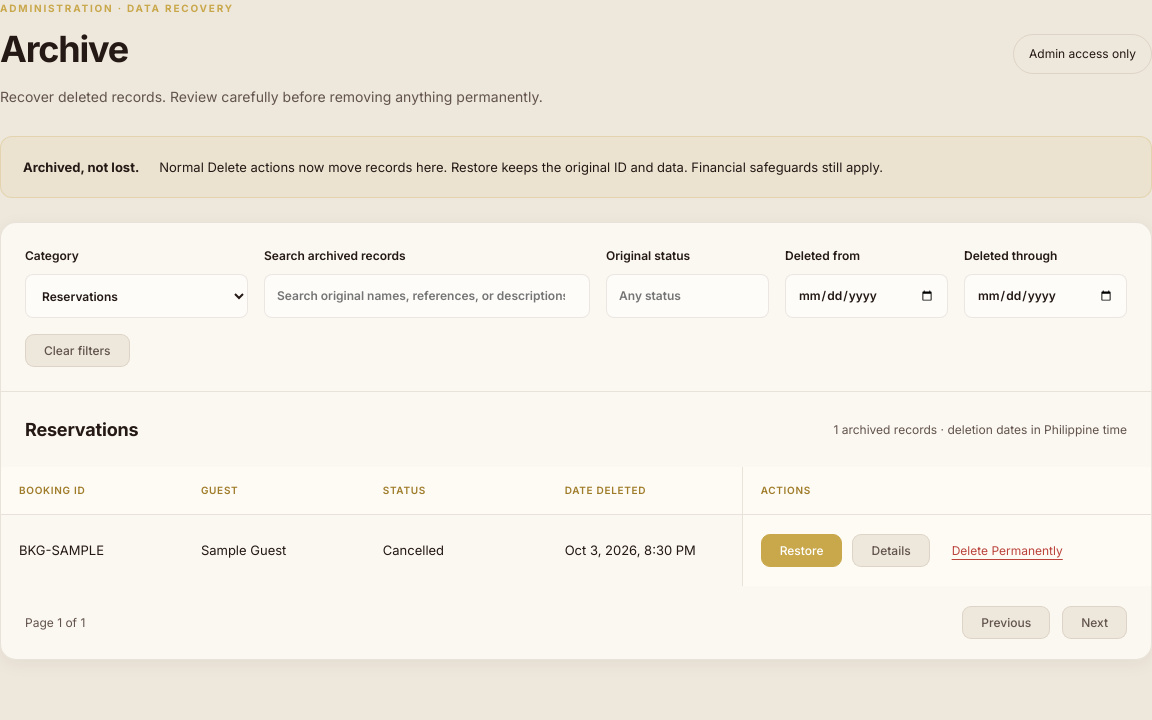
Test case: search/status/date filters are server-side and invalid ranges do not fetch
Type "Sample" into the search field labelled "Search archived records". click: {"x": 427, "y": 296}
box: [264,274,590,318]
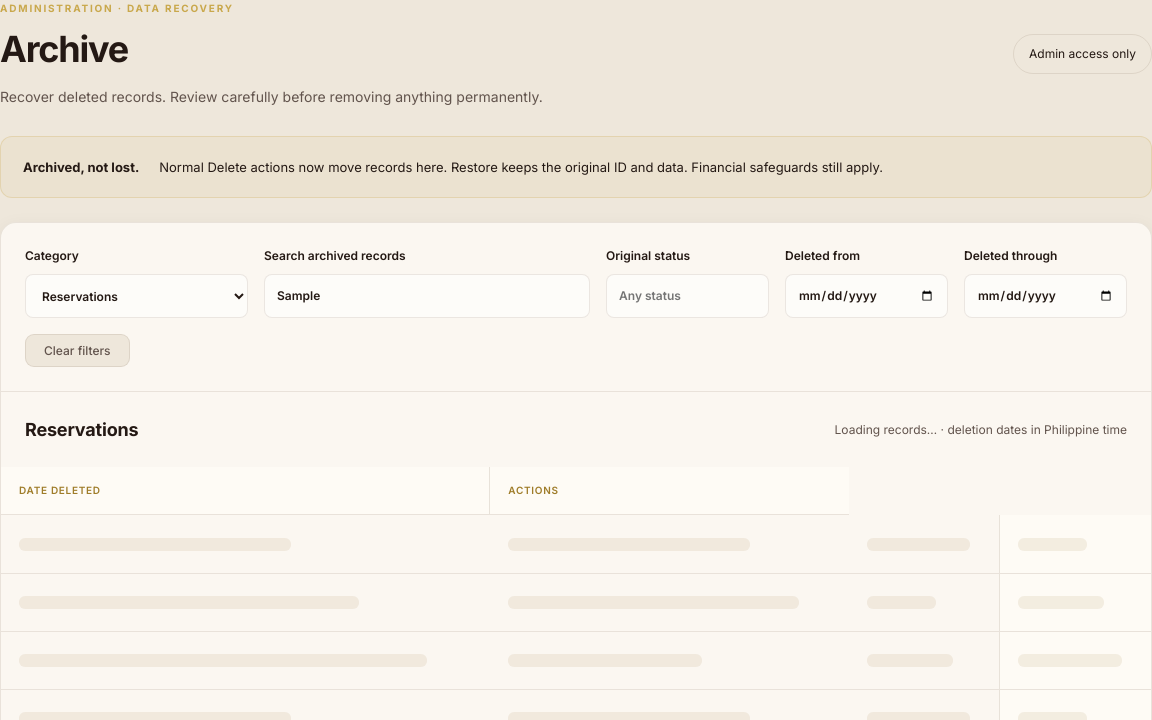
Type "Cancelled" into the field labelled "Original status". click: {"x": 688, "y": 296}
box: [606,274,769,318]
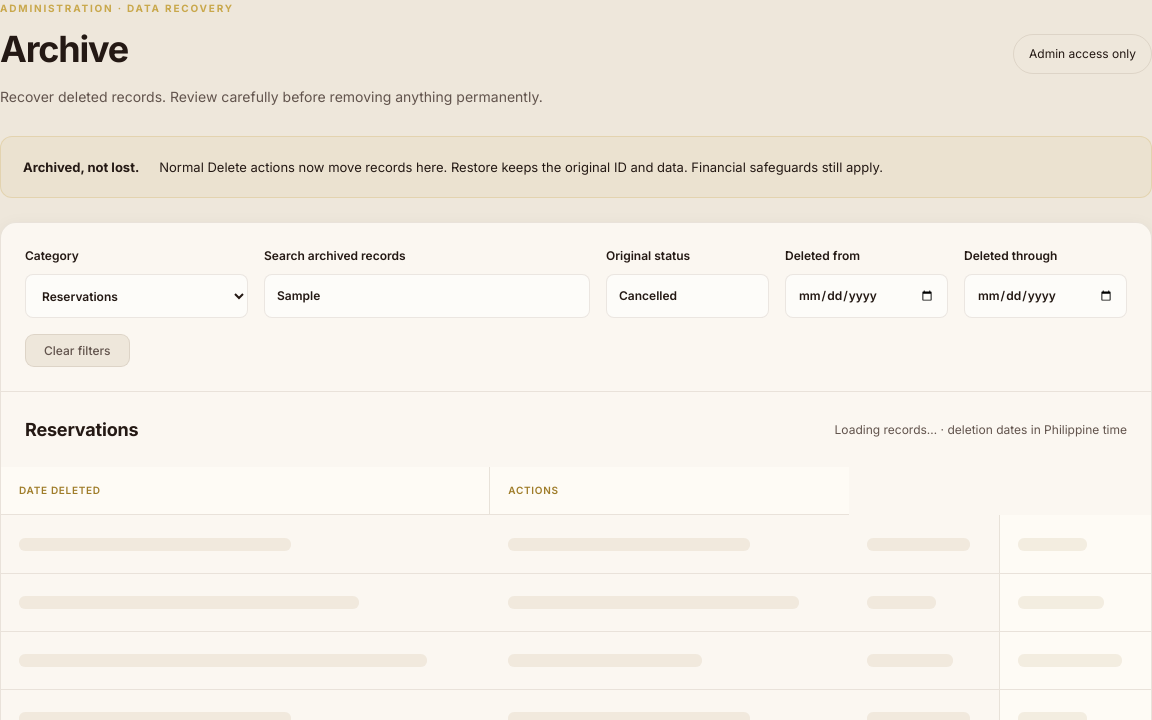
Type "2026-10-01" into the date field labelled "Deleted from". click: {"x": 866, "y": 296}
box: [785,274,948,318]
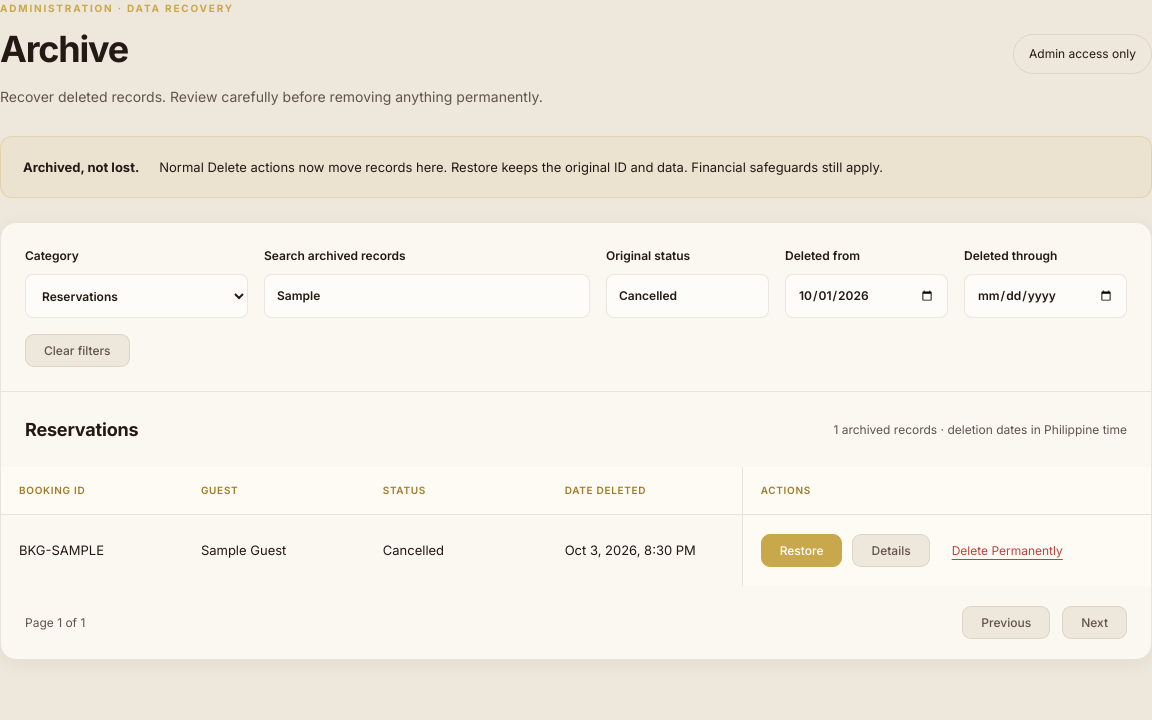
Type "2026-09-01" into the date field labelled "Deleted through". click: {"x": 1046, "y": 296}
box: [964,274,1127,318]
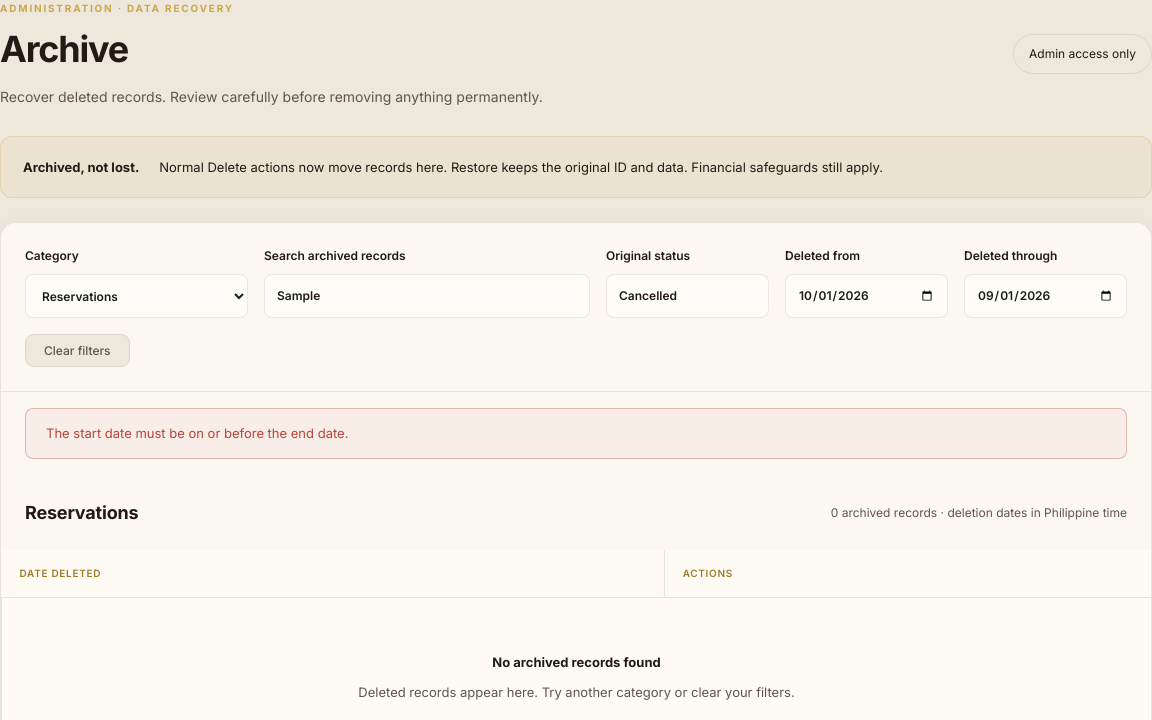
Expected: the message shows "start date", [46,426,348,442]
